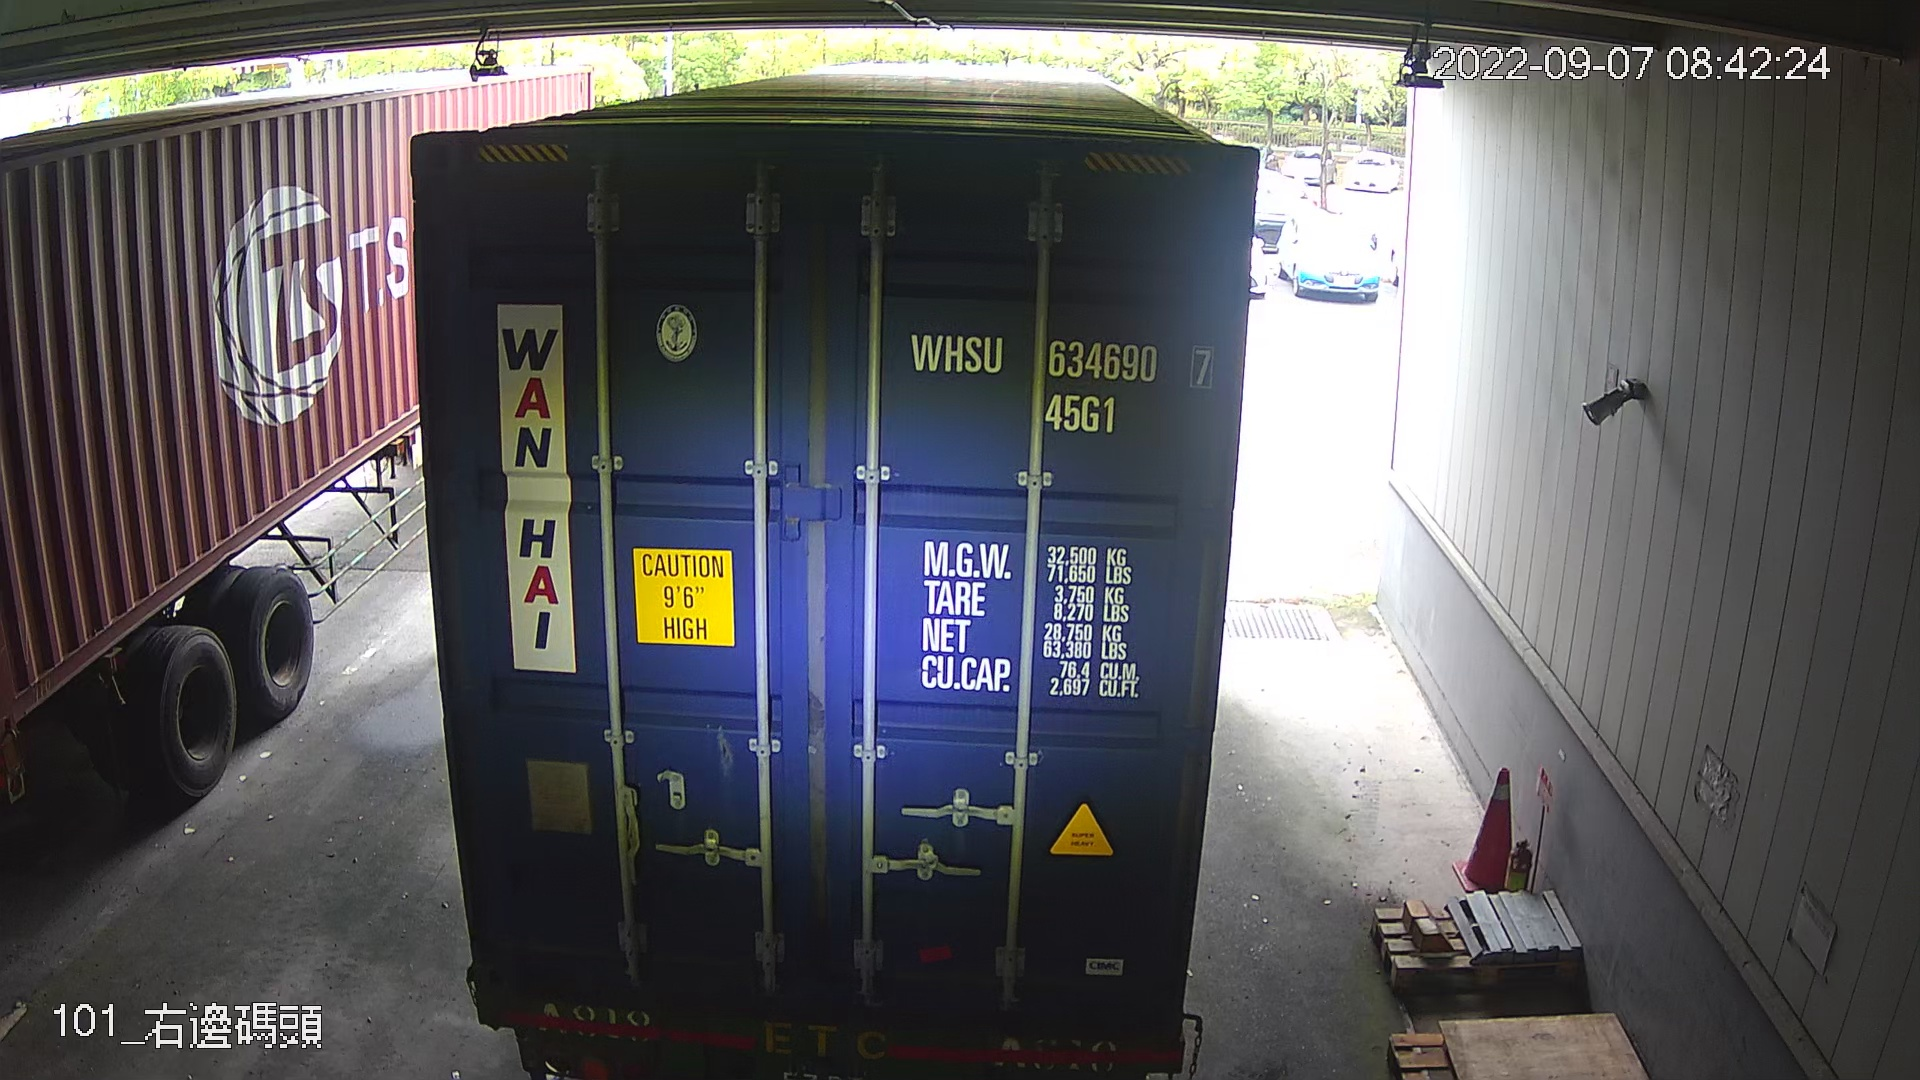container: (894, 313, 1220, 444)
